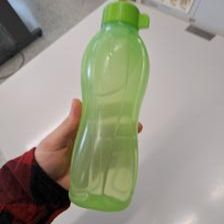bottle: (59, 2, 152, 209)
